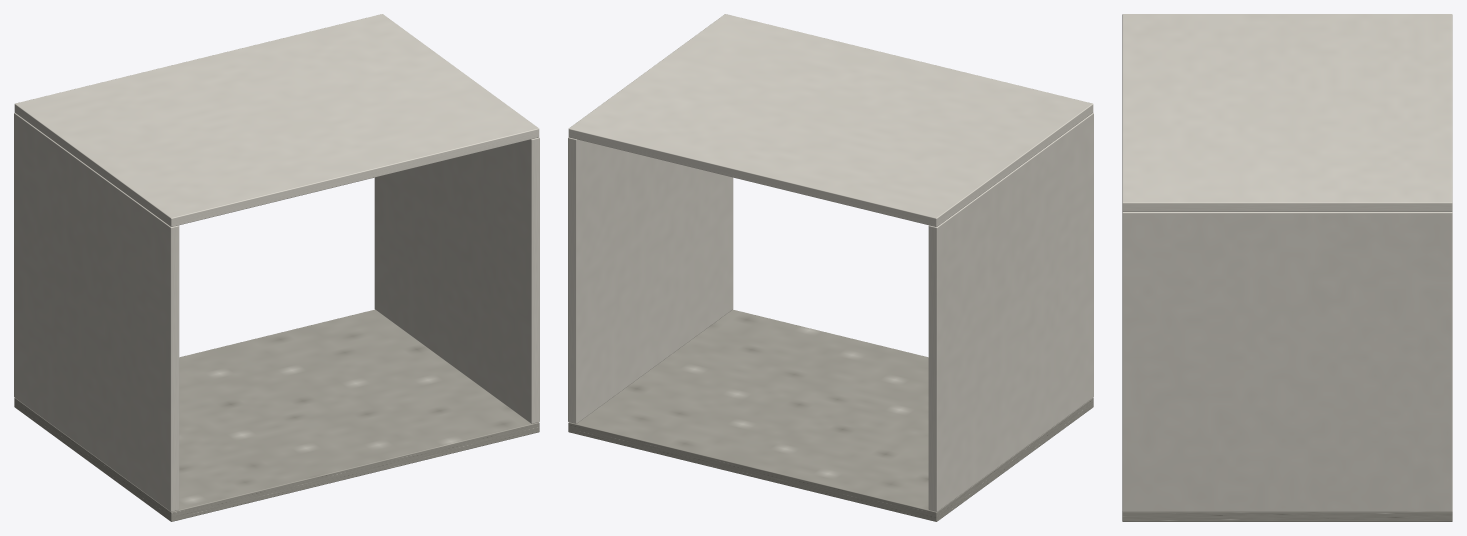
The model's file is elevator-cabin-shell.glb.
3 renders of one model, left to right at view 1: azimuth 30°, elevation 25°; view 2: azimuth 150°, elevation 25°; view 3: azimuth 270°, elevation 25°, orthographic. The views are drawn at different scales.
Visible parts, largest first — view 1: Cabin_Ceiling, Cabin_Floor, Cabin_Side_-4.11, Cabin_Side_4.11; view 2: Cabin_Ceiling, Cabin_Floor, Cabin_Side_-4.11, Cabin_Side_4.11; view 3: Cabin_Side_4.11, Cabin_Ceiling, Cabin_Floor.
Boxes of the visible parts, x1,y1,x2,y2 form: Cabin_Ceiling: [14, 14, 539, 226]; Cabin_Floor: [14, 309, 539, 521]; Cabin_Side_-4.11: [14, 113, 179, 511]; Cabin_Side_4.11: [374, 137, 539, 423]; Cabin_Ceiling: [568, 14, 1093, 226]; Cabin_Floor: [568, 309, 1093, 521]; Cabin_Side_-4.11: [928, 113, 1093, 511]; Cabin_Side_4.11: [568, 137, 733, 423]; Cabin_Side_4.11: [1122, 211, 1452, 511]; Cabin_Ceiling: [1122, 14, 1452, 211]; Cabin_Floor: [1122, 511, 1452, 521].
Bounding box in the file's own units: 8.42 × 6.62 × 6.2.
Materials: 5 (3 with a texture image).
